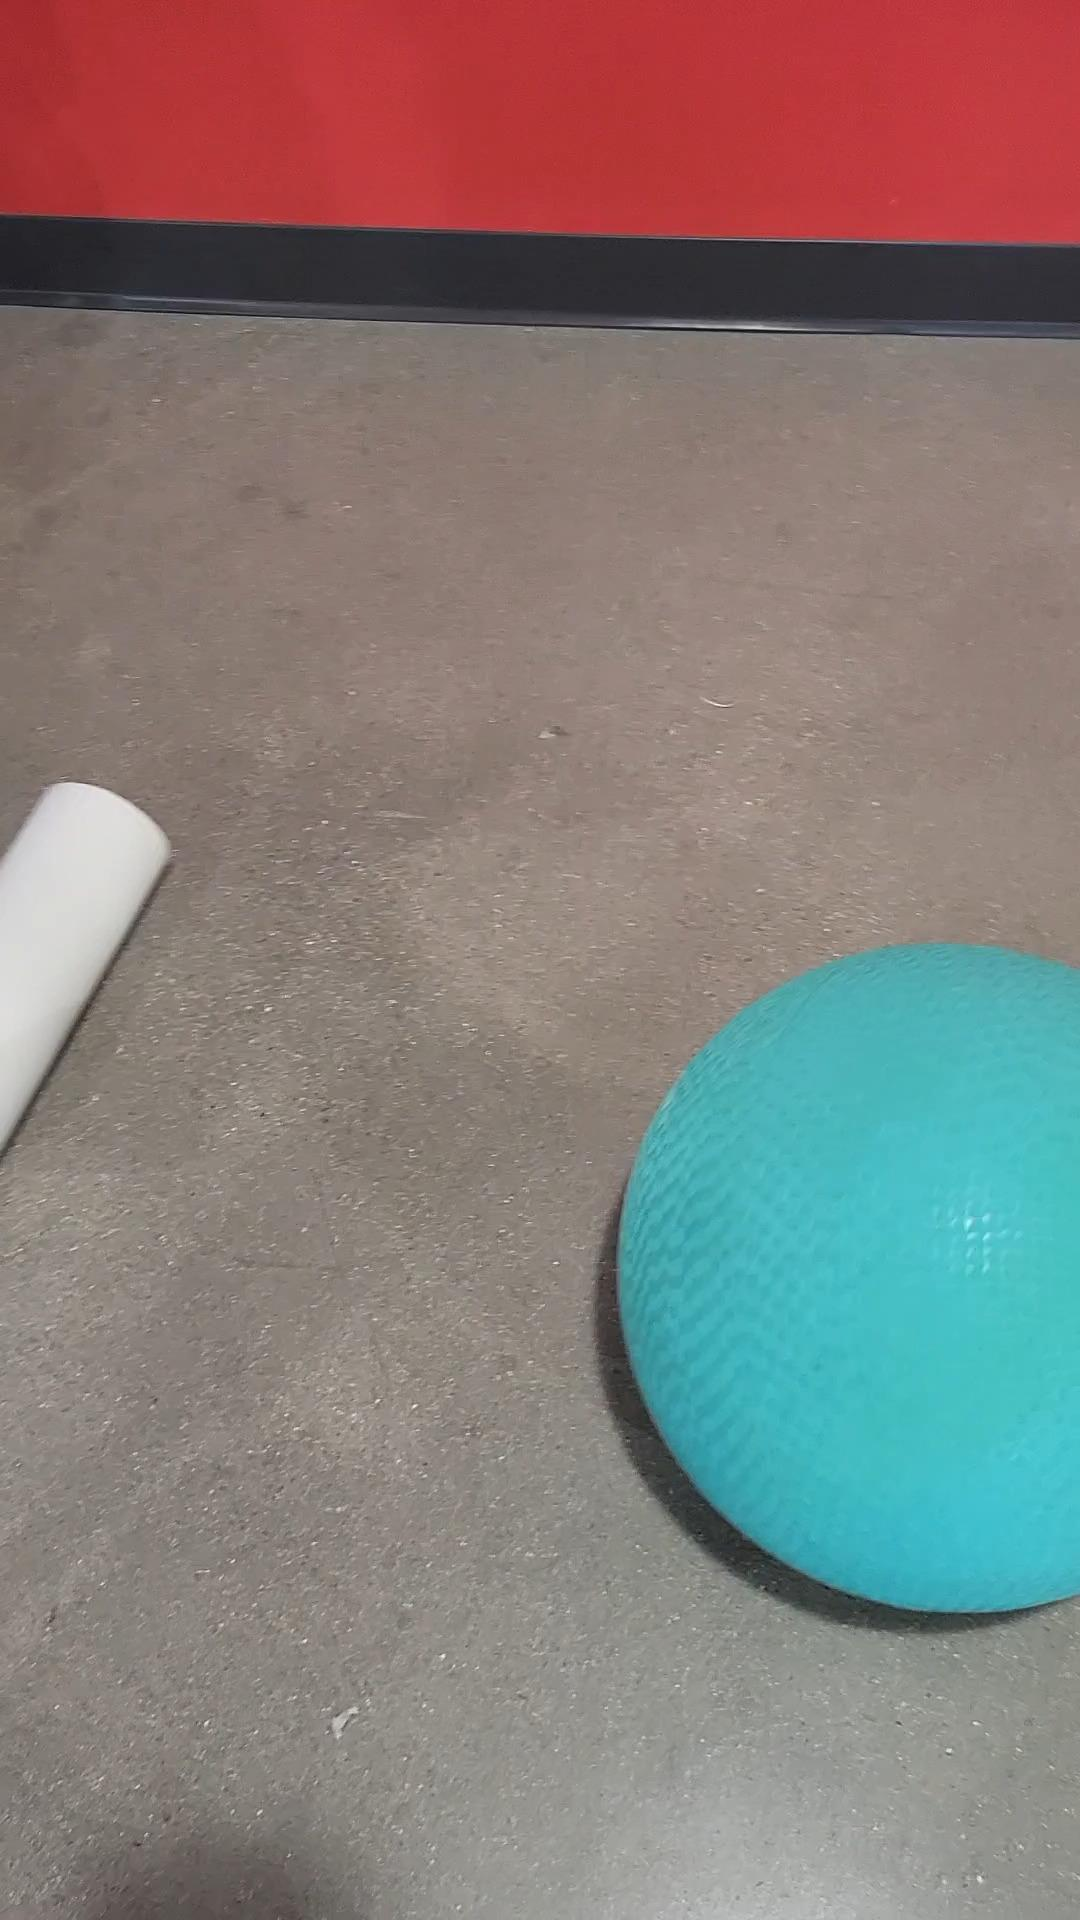algae: (626, 920, 1080, 1677)
coral: (0, 741, 237, 1184)
